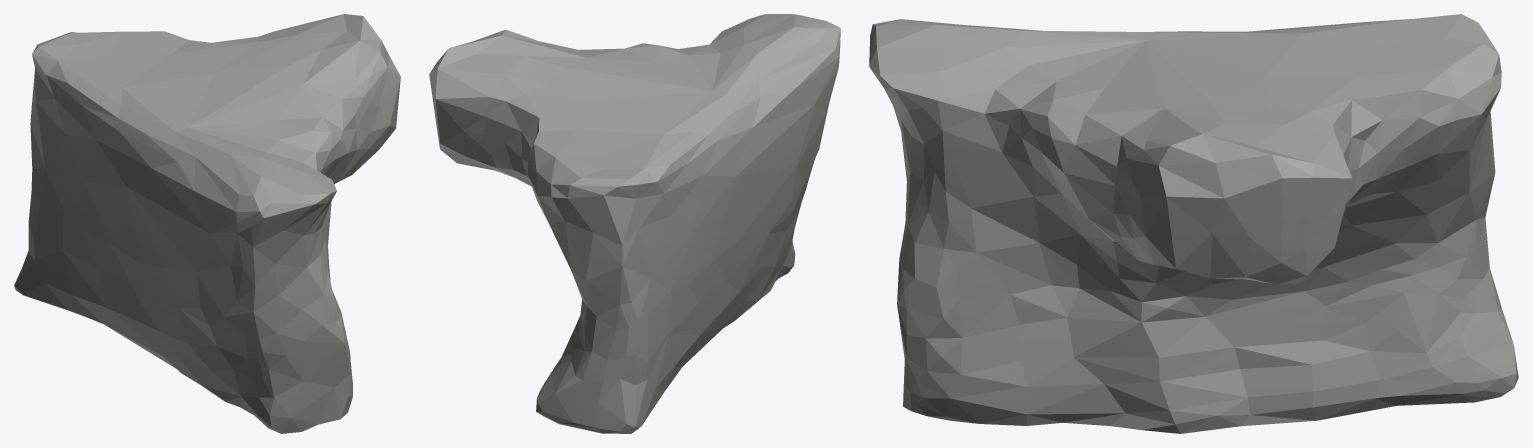
File: Cavern_Wall_Med-03.fbx
The picture shows the model from 3 angles, left to right: view 1: azimuth 30°, elevation 25°; view 2: azimuth 150°, elevation 25°; view 3: azimuth 270°, elevation 25°; orthographic projection. The views are drawn at different scales.
Parts seen in each view (by area): view 1: Cavern_Wall_Med-03; view 2: Cavern_Wall_Med-03; view 3: Cavern_Wall_Med-03.
Part boxes in pixels (x1,y1,x2,y2): Cavern_Wall_Med-03: (14,14,400,433); Cavern_Wall_Med-03: (429,14,840,433); Cavern_Wall_Med-03: (869,14,1518,433).
Size of the model in its own units: 1373 by 1305 by 2059.
1 material, 1 textured.
